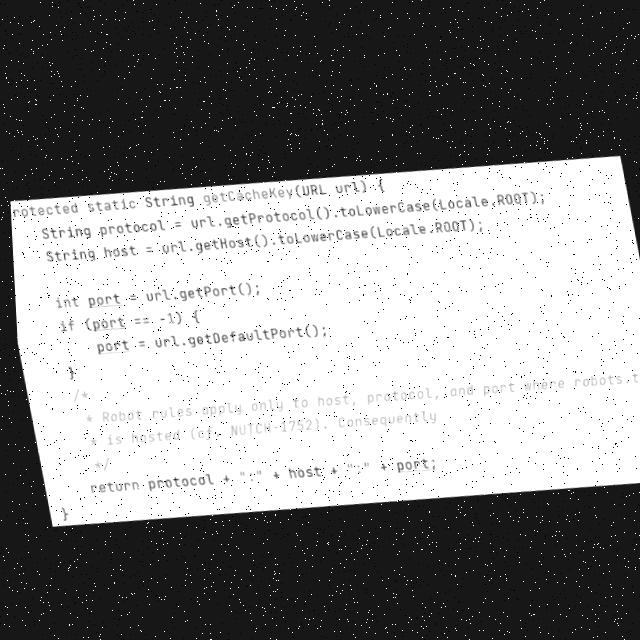code_screen: (11, 158, 640, 525)
